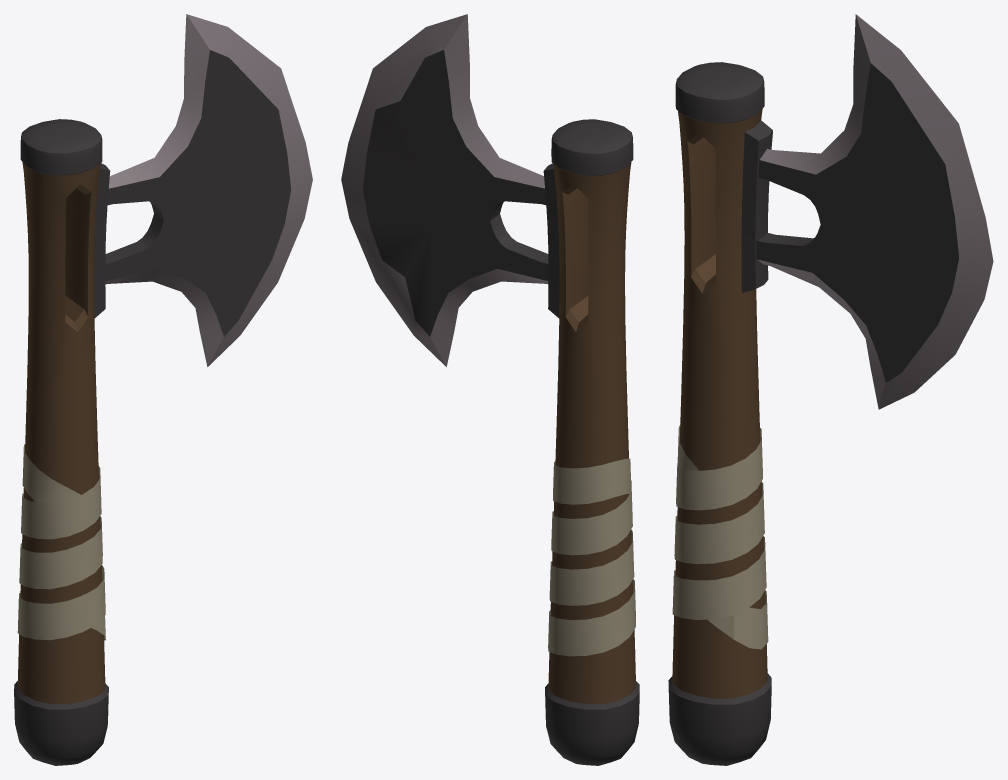
Rendered from quaternius-pirate-weapon-axe.glb.
3 views of the same model, side by side, from view 1: azimuth 30°, elevation 25°; view 2: azimuth 150°, elevation 25°; view 3: azimuth 330°, elevation 25° (orthographic). The views are drawn at different scales.
Parts seen in each view (by area): view 1: Weapon_Axe; view 2: Weapon_Axe; view 3: Weapon_Axe.
Part boxes in pixels (left/top/right/bottom): Weapon_Axe: left=14, top=14, right=312, bottom=765; Weapon_Axe: left=341, top=14, right=639, bottom=765; Weapon_Axe: left=668, top=14, right=993, bottom=765.
Bounding box in the file's own units: 0.4467 × 1.05 × 0.1247.
1 material, 1 textured.
